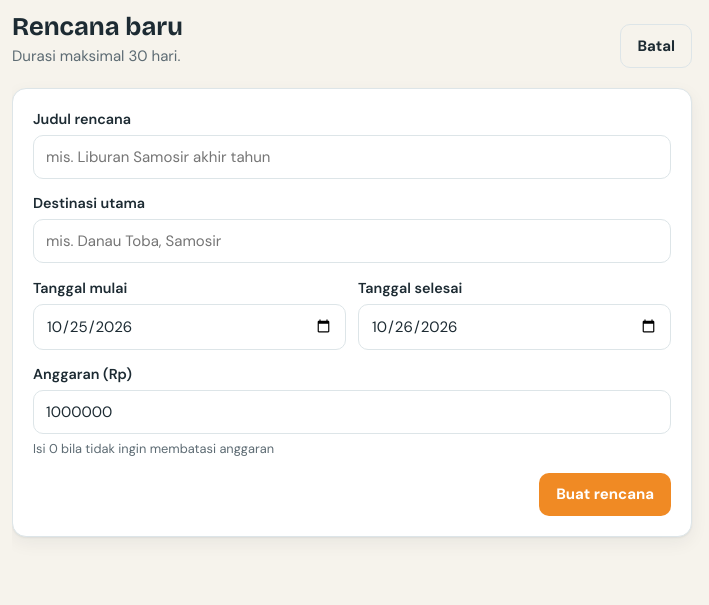
Test case: formulir rencana › menolak judul kosong tanpa memanggil API
Step 1. Click the button "Buat rencana" → (605, 494), box [539,472,671,516]
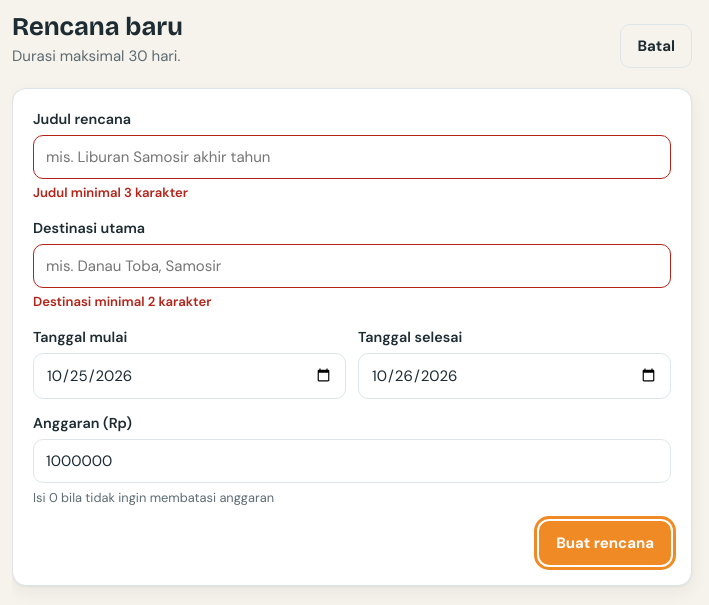
Expected: the text "Judul minimal 3 karakter" is shown, [33,184,188,202]
